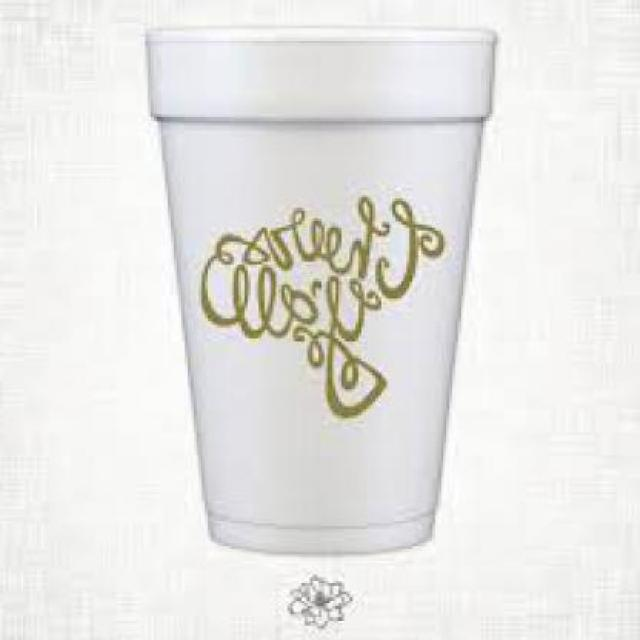PAPER: (145, 22, 501, 552)
